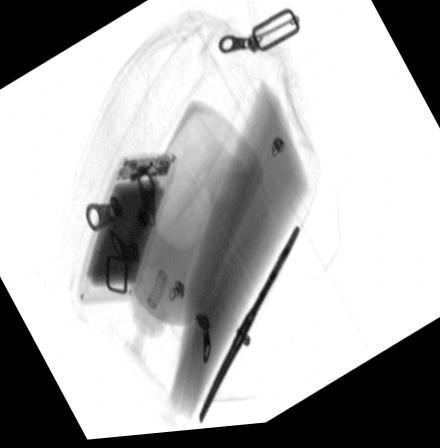Powerbank: (72, 156, 182, 304)
Scissors: (192, 229, 307, 431)
